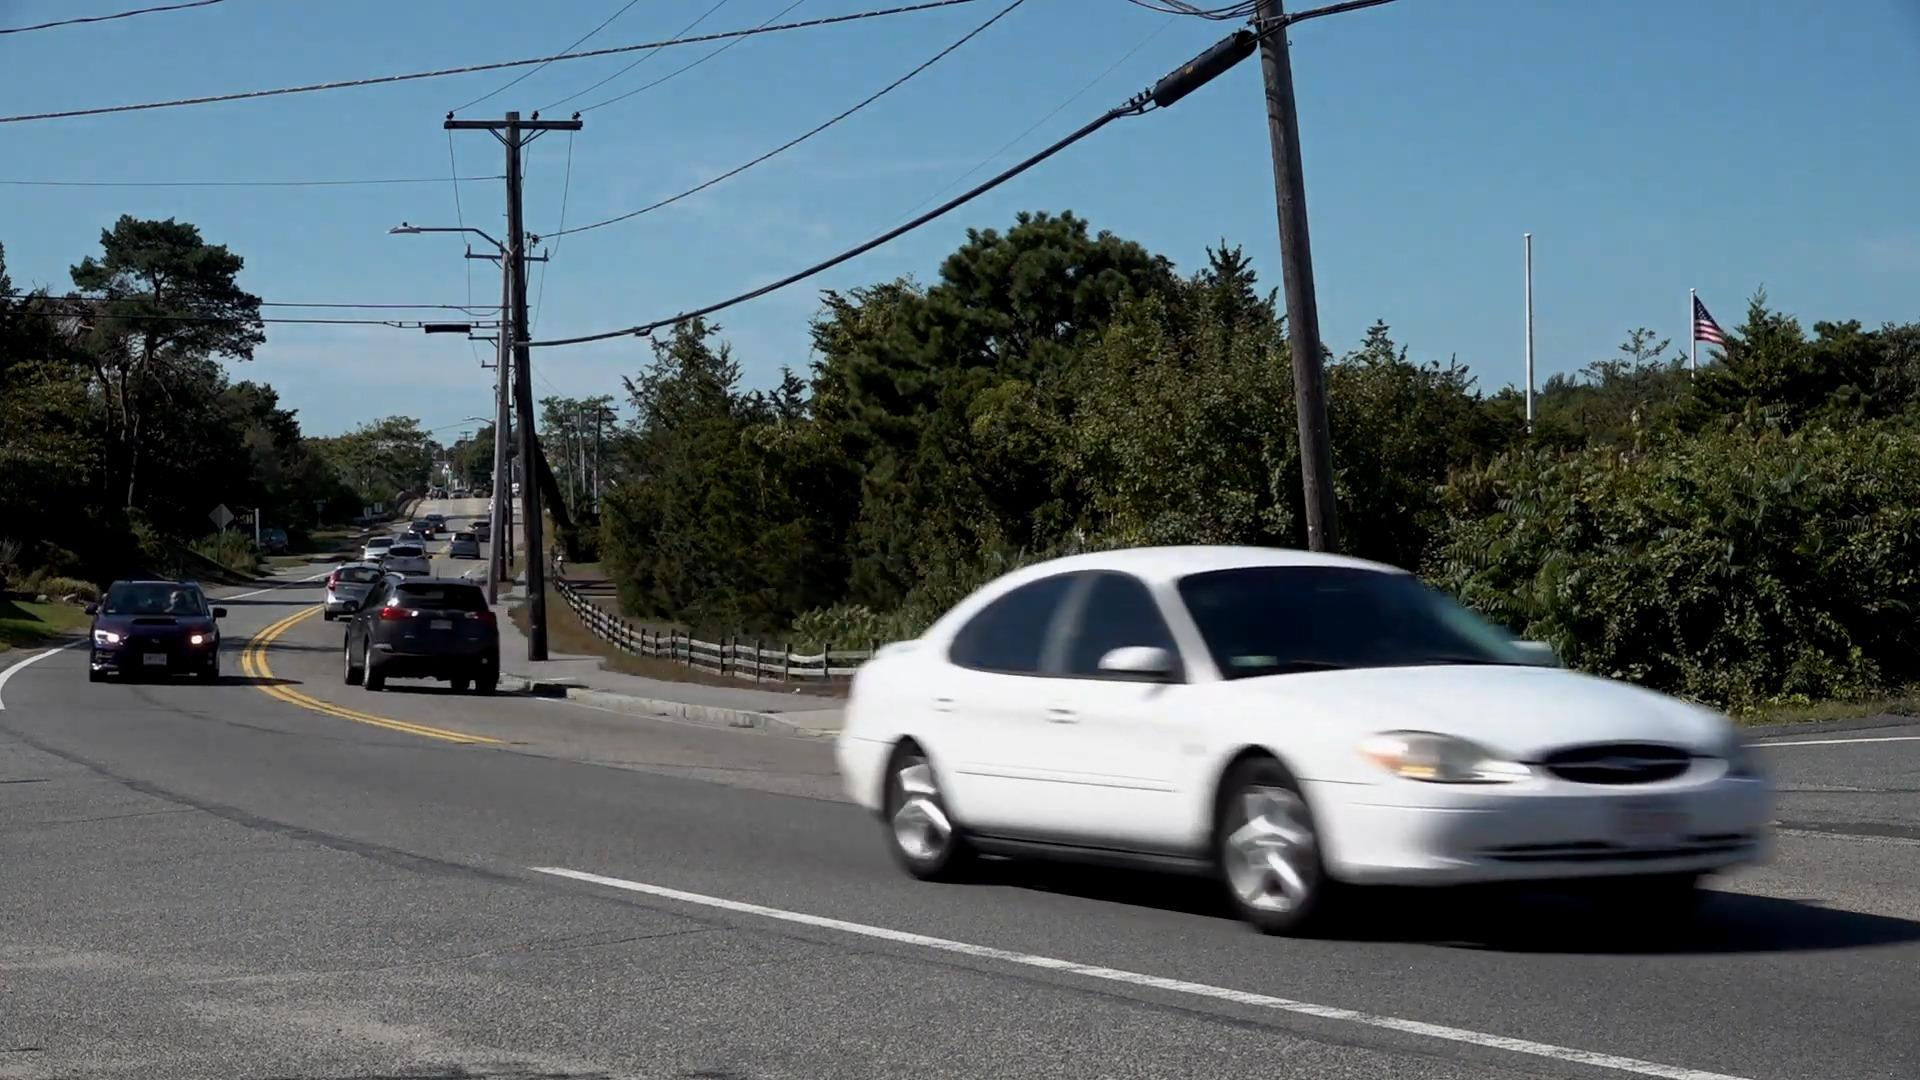sedans: (833, 545, 1783, 938), (88, 583, 224, 688)
suv: (344, 571, 502, 700)
